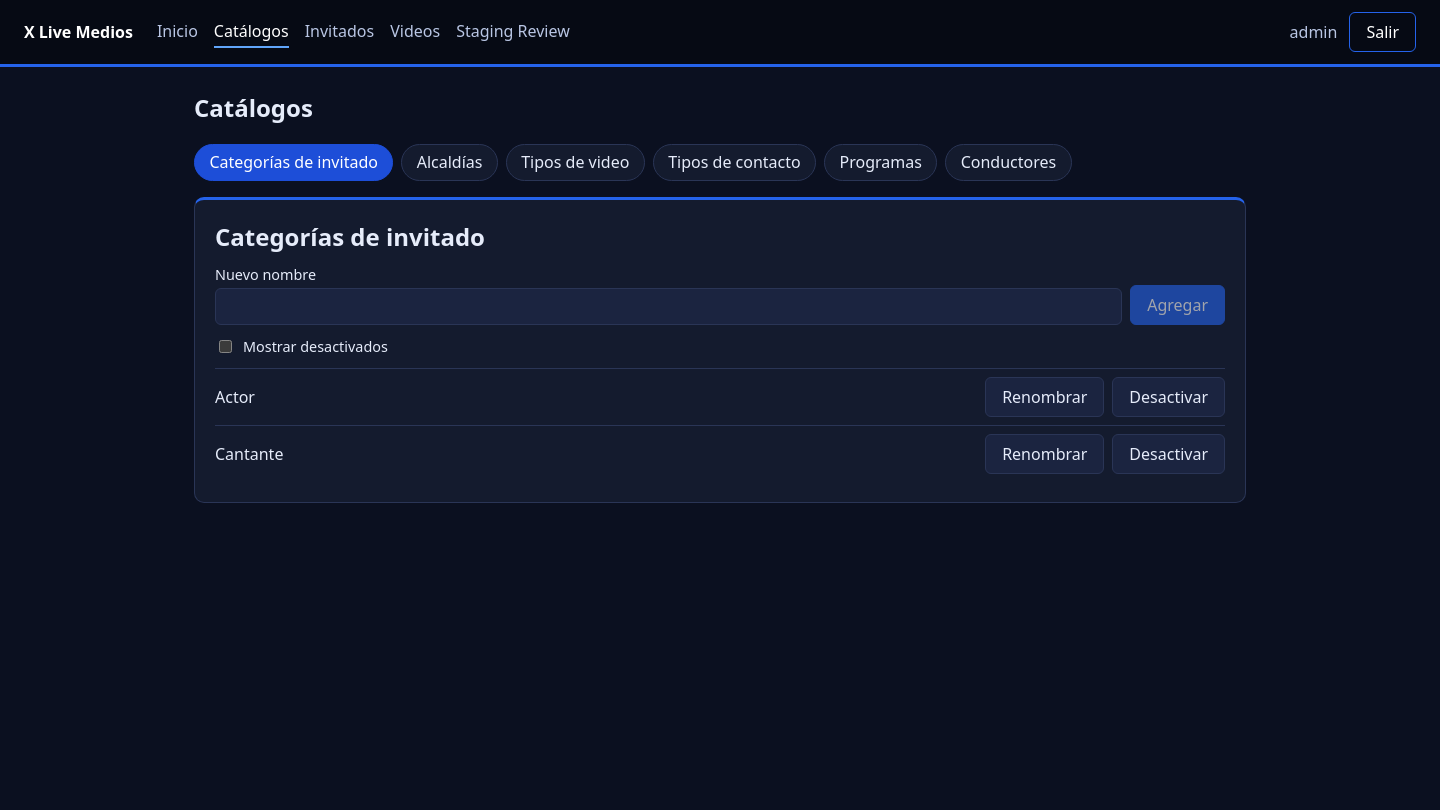
Test: Catálogos › muestra los activos y oculta los desactivados hasta marcar la casilla
Expected: the text "Actor" is shown, [215,386,255,408]
Expected: the text "Viejo" is not shown
Click the checkbox labelled "Mostrar desactivados" at (226, 346), box [219,340,232,353]
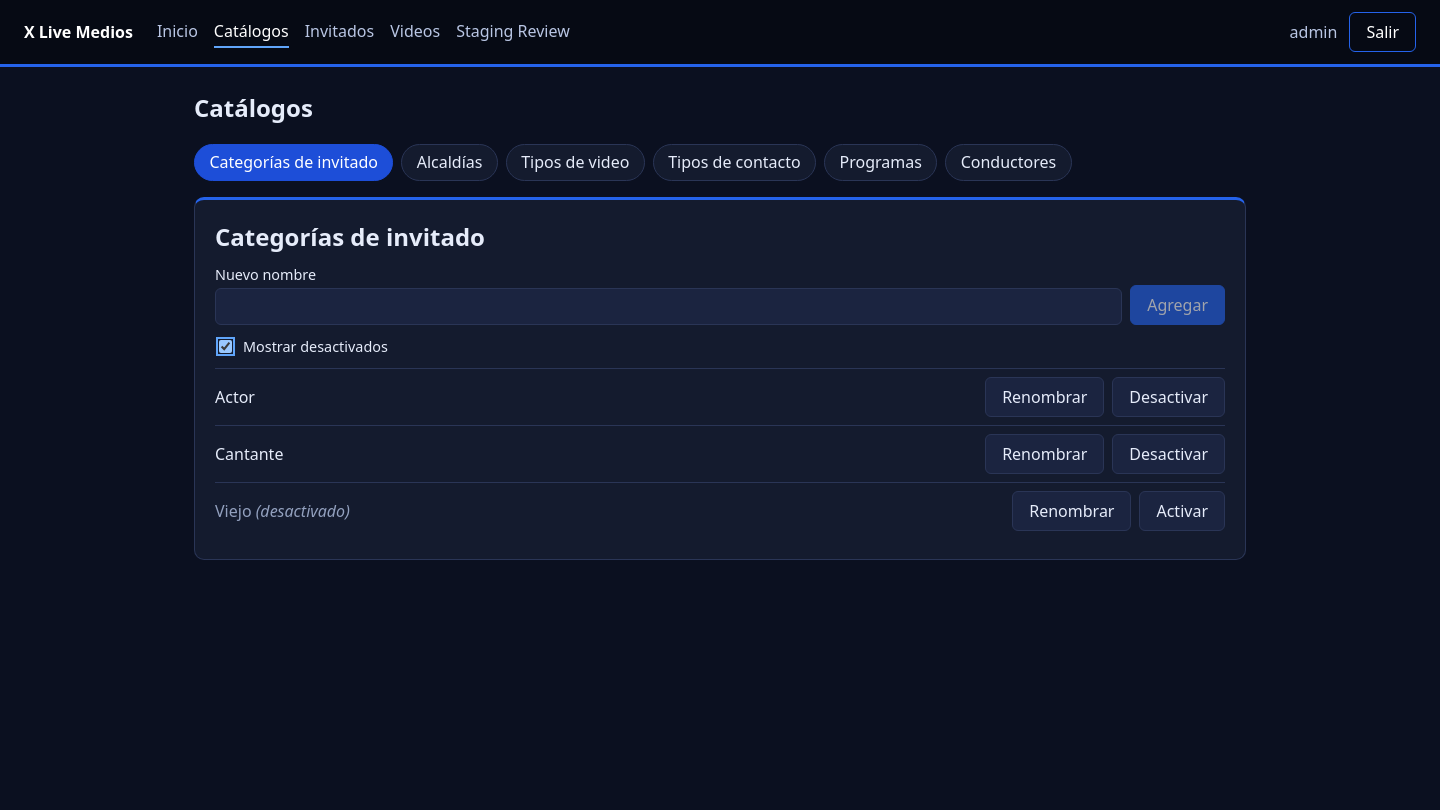
Now the text "Viejo (desactivado)" is shown, box [215,500,350,522]
Now the text "(desactivado)" is shown, box [252,500,350,522]
Now the button with aria-label "Activar Viejo" is shown, box [1140,491,1225,531]
